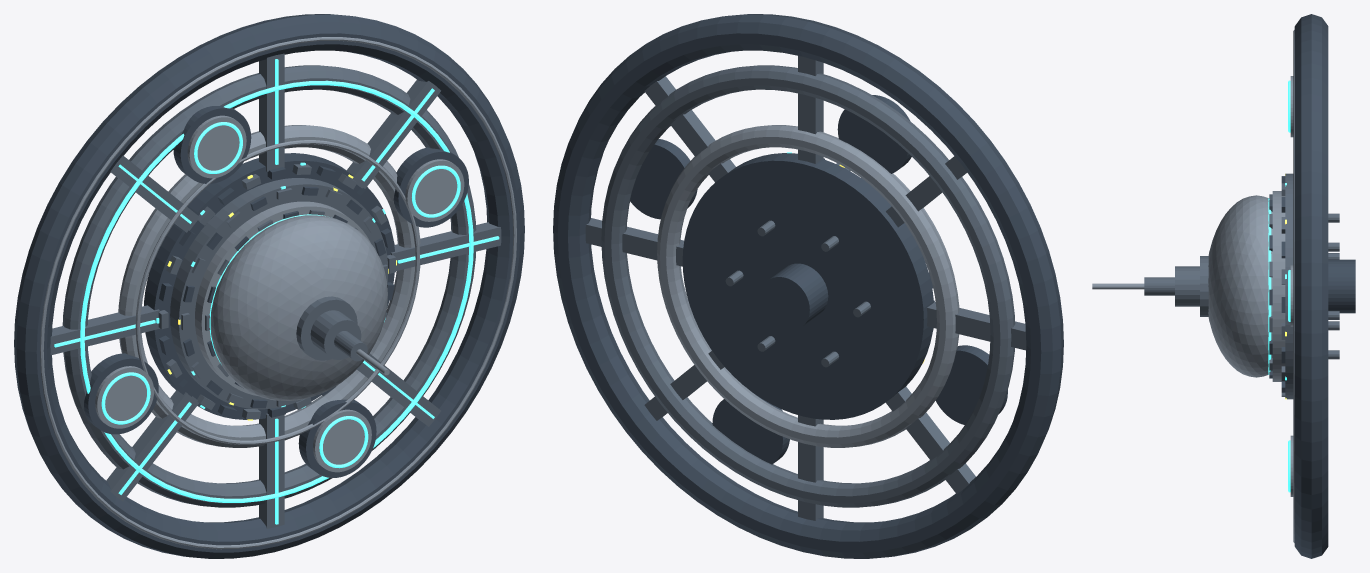
File: orbital_station_edge_view.glb
3 renders of one model, left to right at view 1: azimuth 30°, elevation 25°; view 2: azimuth 150°, elevation 25°; view 3: azimuth 270°, elevation 25°, orthographic. The views are drawn at different scales.
Parts seen in each view (by area): view 1: Armored ring 1, Central command dome, Armored ring 2, Armored ring 3, Central tier 2, Central tier 1, Ring rail 1, Ring rail 2, Ring rail 3, Central tier 3, Platform 1 top, Platform 2 top (+17 smaller); view 2: Armored ring 1, Central tier 1, Armored ring 2, Armored ring 3, Lower reactor hub, Platform 1 base, Platform 3 base, Platform 2 base, Platform 4 base, Radial bridge 2, Radial bridge 6, Radial bridge 3 (+5 smaller); view 3: Armored ring 1, Central command dome, Central tier 3, Central tier 2, Lower reactor hub, Ring rail 1, Spire 2, Spire 3, Spire 1, Dome blue band 1, Spire 4.
Boxes of the visible parts, x1,y1,x2,y2 form: Armored ring 1: (14,14,524,558); Central command dome: (210,215,387,400); Armored ring 2: (62,65,476,507); Armored ring 3: (118,125,420,447); Central tier 2: (170,178,388,409); Central tier 1: (144,153,394,419); Ring rail 1: (40,37,516,549); Ring rail 2: (80,80,473,502); Ring rail 3: (135,140,419,444); Central tier 3: (195,201,370,395); Platform 1 top: (405,159,464,221); Platform 2 top: (187,115,246,178); Armored ring 1: (553,14,1063,558); Central tier 1: (682,153,933,419); Armored ring 2: (601,65,1015,507); Armored ring 3: (657,125,959,447); Lower reactor hub: (759,263,828,330); Platform 1 base: (630,139,697,219); Platform 3 base: (935,345,1007,424); Platform 2 base: (837,95,911,173); Platform 4 base: (712,392,789,464); Radial bridge 2: (644,76,735,182); Radial bridge 6: (885,386,975,493); Radial bridge 3: (798,56,823,163); Armored ring 1: (1294,14,1328,558); Central command dome: (1208,195,1272,377); Central tier 3: (1272,191,1285,381); Central tier 2: (1285,173,1293,399); Lower reactor hub: (1328,259,1355,313); Ring rail 1: (1293,30,1294,542); Spire 2: (1175,266,1199,306); Spire 3: (1144,277,1174,295); Spire 1: (1200,256,1208,316); Dome blue band 1: (1268,198,1271,374); Spire 4: (1092,283,1144,289).
Bounding box in the file's own units: 22.24 × 22.24 × 10.75.
